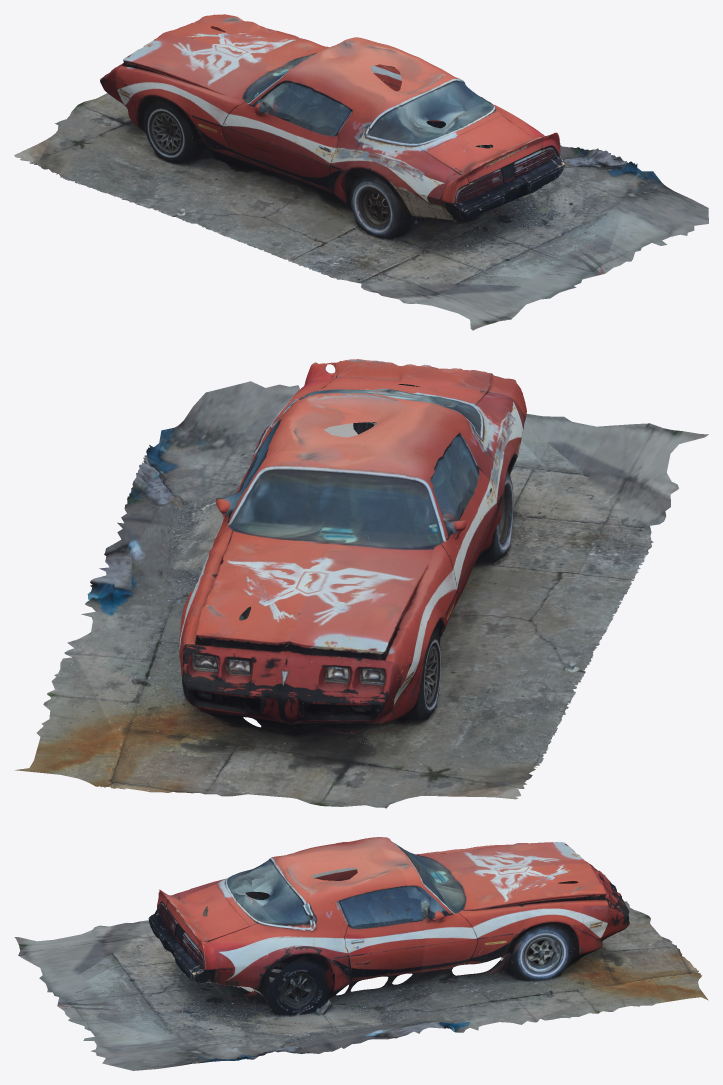
The model's file is pontiac-firebird-formula.glb.
3 views of the same model, one above another, from view 1: azimuth 30°, elevation 25°; view 2: azimuth 150°, elevation 25°; view 3: azimuth 270°, elevation 25° (orthographic). The views are drawn at different scales.
Visible parts, largest first — view 1: Object_3, Object_5, Object_4, Object_2; view 2: Object_5, Object_2, Object_3, Object_4; view 3: Object_2, Object_4, Object_3, Object_5.
Part boxes in pixels (box(x1,y1,x2,y2)): Object_3: box(158, 14, 651, 274); Object_5: box(49, 15, 615, 330); Object_4: box(43, 41, 641, 215); Object_2: box(14, 26, 708, 245); Object_5: box(14, 362, 708, 808); Object_2: box(47, 365, 530, 799); Object_3: box(138, 364, 631, 718); Object_4: box(36, 359, 576, 796); Object_2: box(83, 842, 662, 1070); Object_4: box(186, 857, 701, 1060); Object_3: box(57, 837, 625, 1039); Object_5: box(14, 837, 708, 1057).
Bounding box in the file's own units: 5.29 × 1.37 × 7.35.
Materials: 5 (4 with a texture image).
